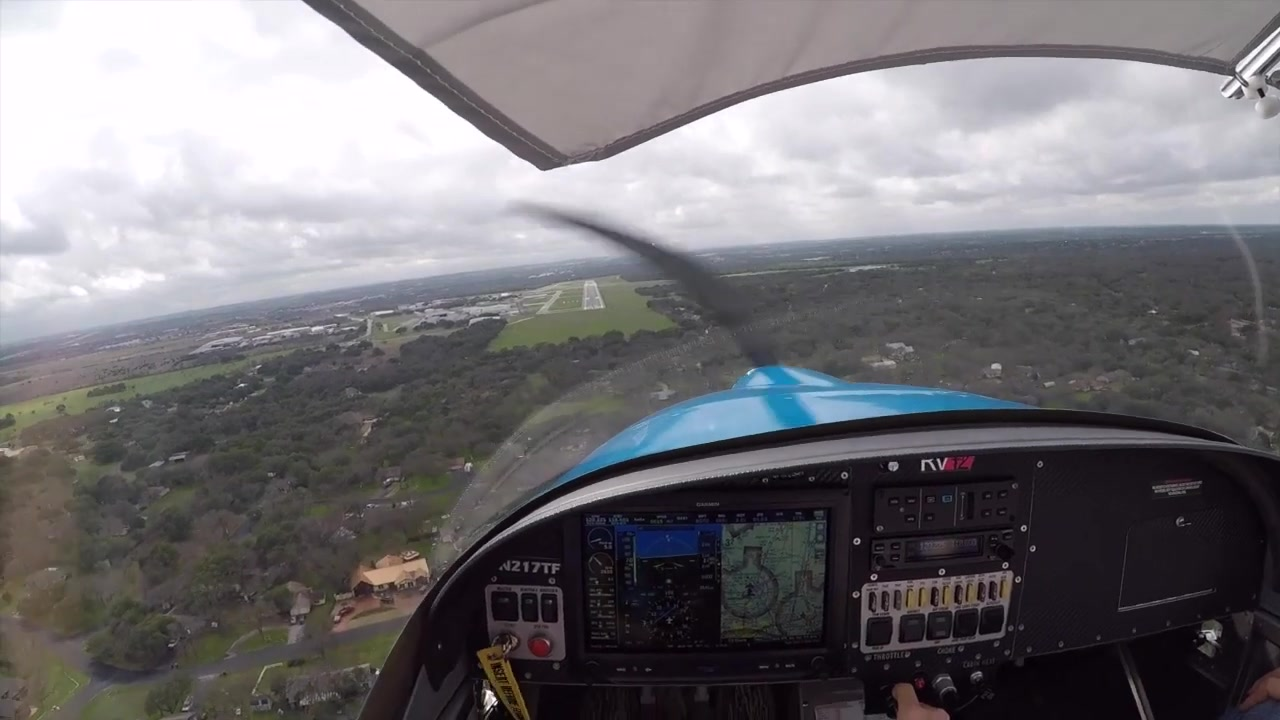runway: (580, 281, 607, 313)
